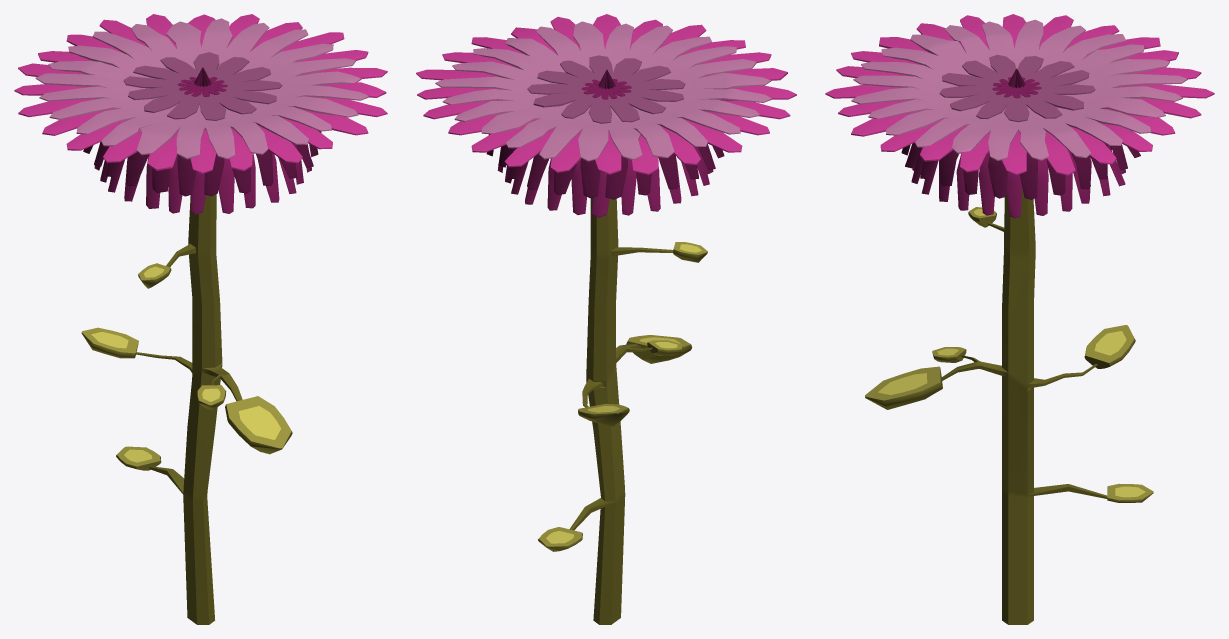
File: Planta Aberta_12H.fbx
3 views of the same model, side by side, from view 1: azimuth 30°, elevation 25°; view 2: azimuth 150°, elevation 25°; view 3: azimuth 270°, elevation 25° (orthographic).
Visible parts, largest first — view 1: pCylinder2, pCylinder1, pCube4, pCylinder3, pCylinder6, pCylinder5, pCube5, pCube8, pCube7, pCylinder4, pCube6, pCube2; view 2: pCylinder2, pCylinder1, pCube4, pCylinder3, pCylinder6, pCylinder5, pCube5, pCube8, pCube7, pCylinder4, pCube2; view 3: pCylinder2, pCube4, pCylinder1, pCylinder3, pCylinder6, pCylinder5, pCube5, pCube8, pCube7, pCylinder4.
Boxes of the visible parts, bbox=[...] form: pCylinder2: bbox=[35, 18, 368, 159]; pCylinder1: bbox=[14, 14, 387, 173]; pCube4: bbox=[136, 194, 242, 624]; pCylinder3: bbox=[123, 52, 282, 120]; pCylinder6: bbox=[94, 143, 311, 214]; pCylinder5: bbox=[83, 131, 321, 196]; pCube5: bbox=[225, 396, 292, 454]; pCube8: bbox=[81, 327, 138, 358]; pCube7: bbox=[116, 446, 161, 470]; pCylinder4: bbox=[177, 77, 227, 96]; pCube6: bbox=[197, 385, 226, 409]; pCube2: bbox=[138, 263, 171, 288]; pCylinder2: bbox=[435, 21, 771, 161]; pCylinder1: bbox=[416, 14, 796, 174]; pCube4: bbox=[569, 197, 673, 624]; pCylinder3: bbox=[527, 55, 685, 123]; pCylinder6: bbox=[497, 146, 713, 217]; pCylinder5: bbox=[486, 134, 724, 199]; pCube5: bbox=[626, 335, 692, 363]; pCube8: bbox=[578, 403, 629, 426]; pCube7: bbox=[538, 527, 582, 551]; pCylinder4: bbox=[581, 79, 631, 99]; pCube2: bbox=[673, 242, 707, 262]; pCylinder2: bbox=[851, 19, 1187, 160]; pCube4: bbox=[941, 188, 1107, 624]; pCylinder1: bbox=[825, 14, 1214, 175]; pCylinder3: bbox=[939, 54, 1095, 122]; pCylinder6: bbox=[911, 145, 1125, 218]; pCylinder5: bbox=[901, 130, 1140, 199]; pCube5: bbox=[865, 366, 942, 409]; pCube8: bbox=[1084, 325, 1135, 368]; pCube7: bbox=[1107, 483, 1153, 502]; pCylinder4: bbox=[992, 77, 1041, 98].
Size of the model in its own units: 782 by 1255 by 801.
